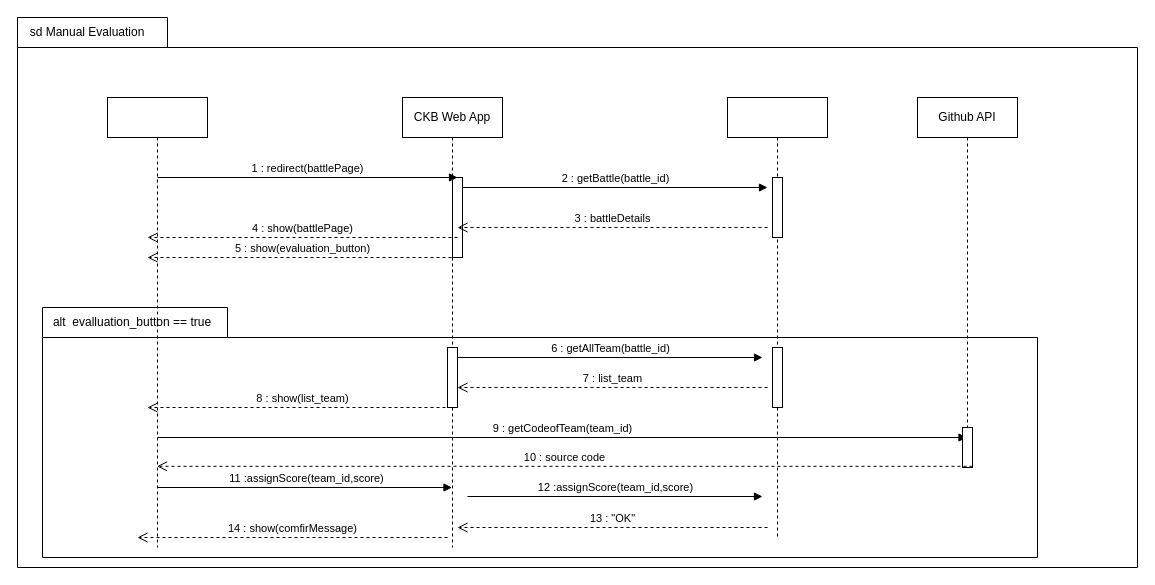
Some shapes in this 1155 by 585 pixel diagram are drawn without their labels. The shapes that lost their labels are listed below. From the top down, each one's box as (x1, y1, x2, y2) in pixels, then its label:
(106, 96, 208, 548): Educator
(726, 96, 828, 538): System
